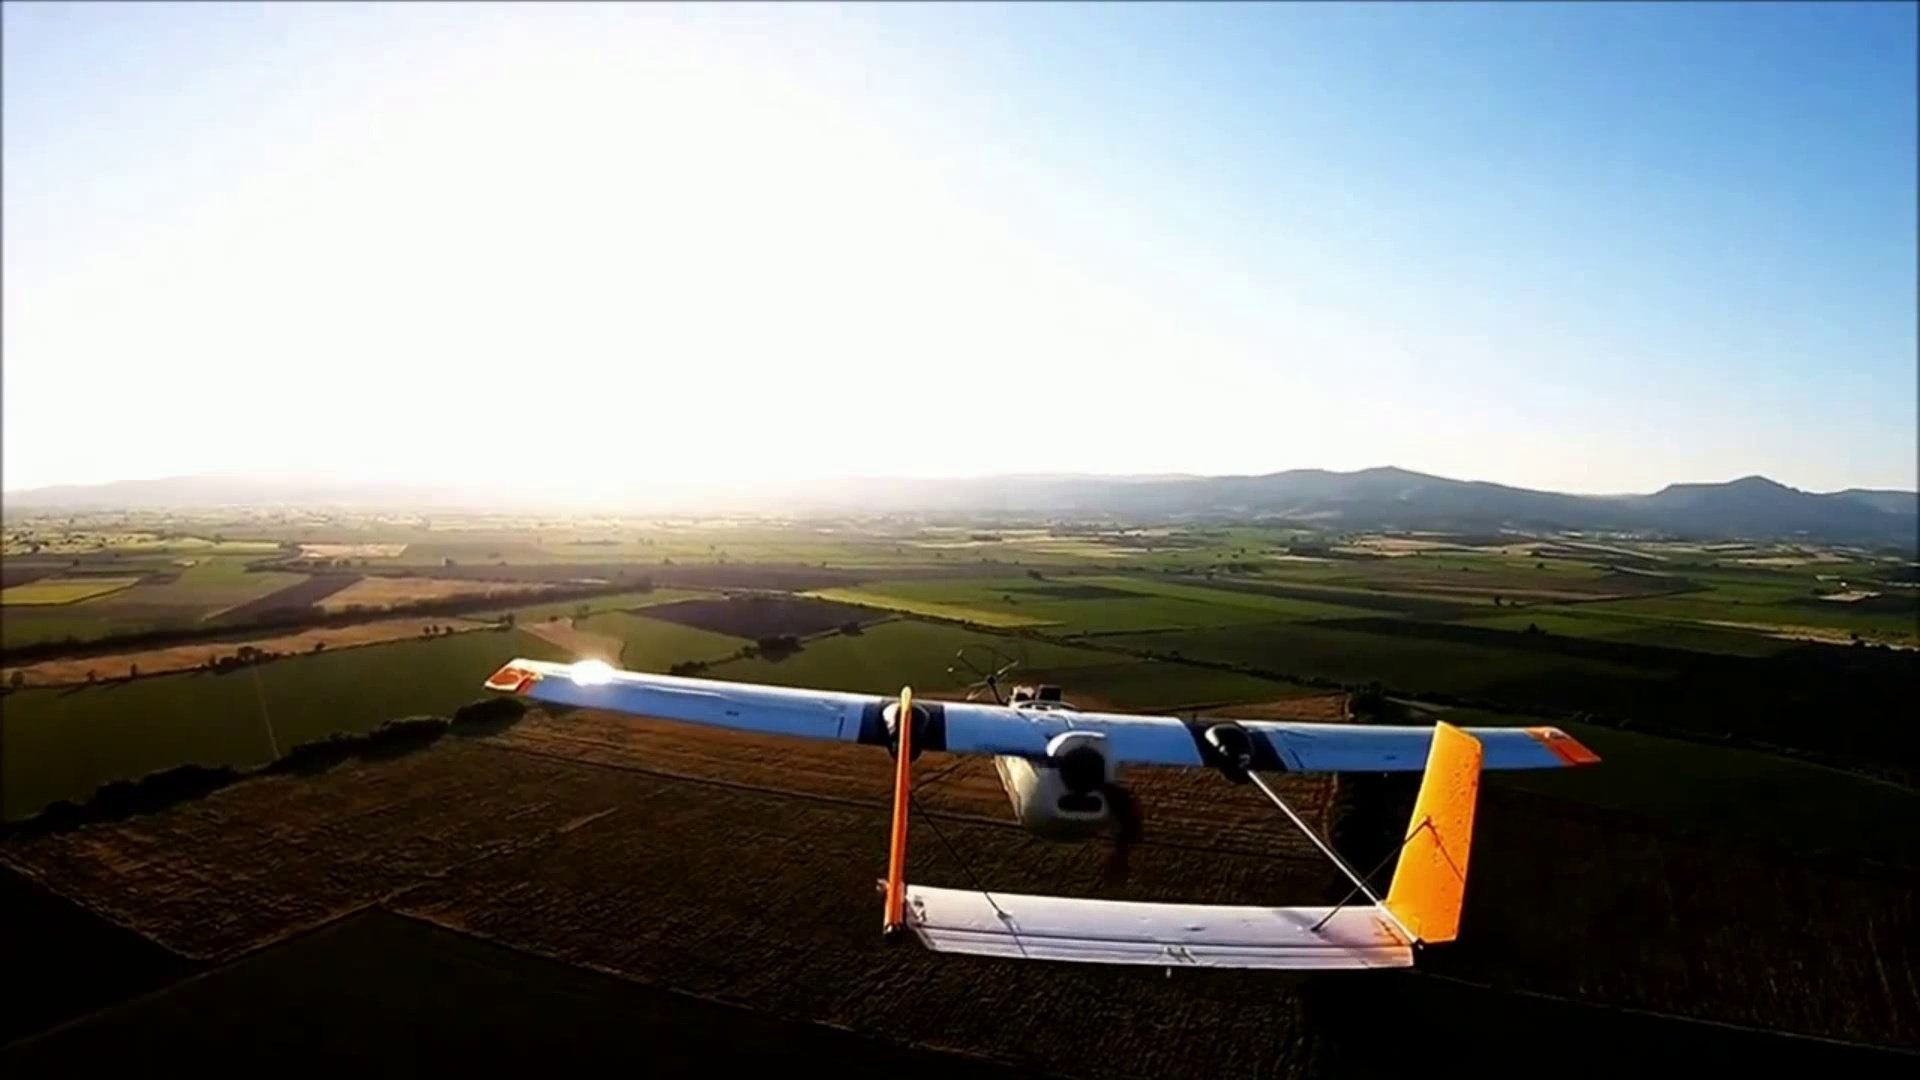airplane: (481, 650, 1603, 969)
